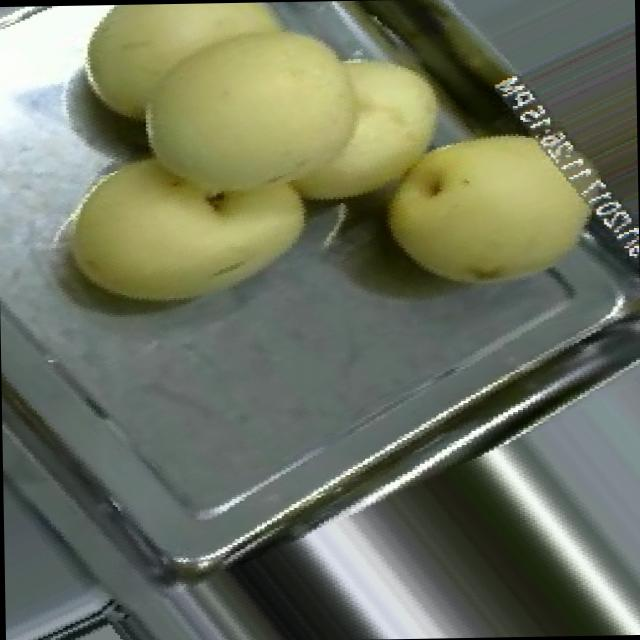Fruit: (34, 120, 338, 333), (356, 96, 628, 322), (225, 0, 477, 231)
